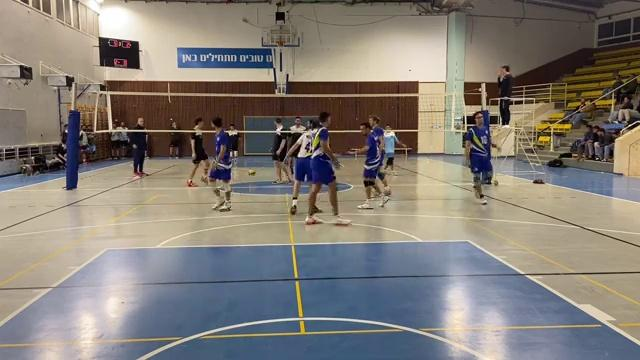ball: (247, 168, 258, 179)
